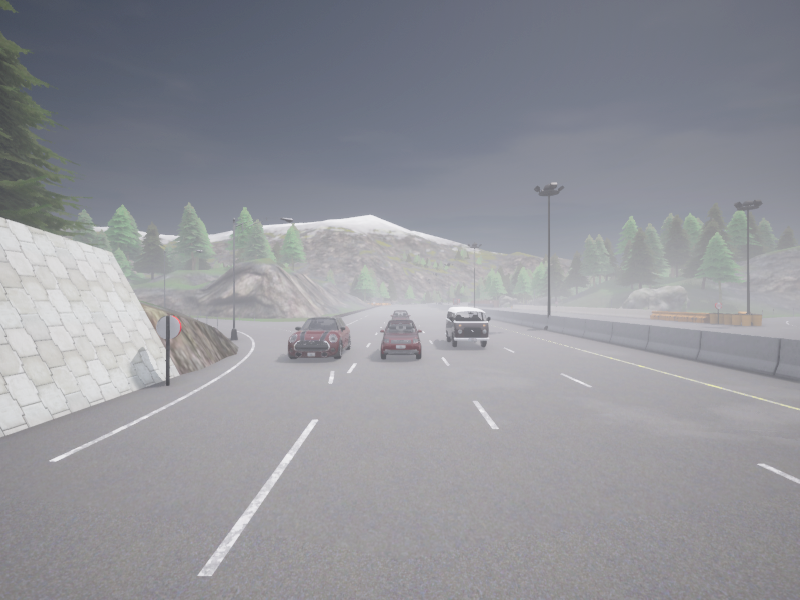vehicle: (288, 316, 350, 358), (445, 307, 490, 346), (380, 320, 421, 358), (390, 310, 410, 319), (453, 298, 459, 304), (438, 302, 442, 304)
